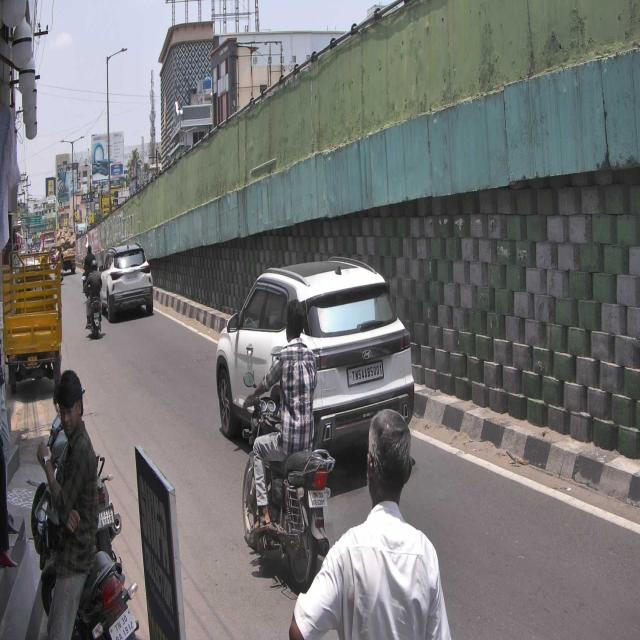single_rider: (237, 292, 332, 587)
